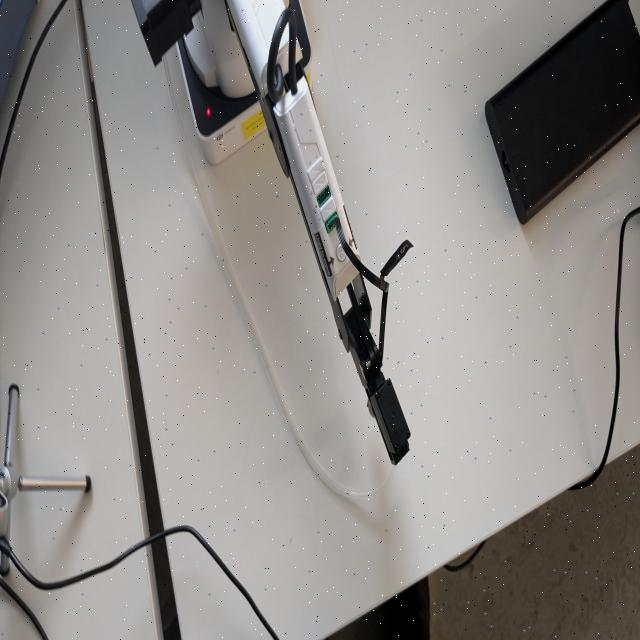Robot-end-effector-HF8z: (362, 374, 414, 468)
